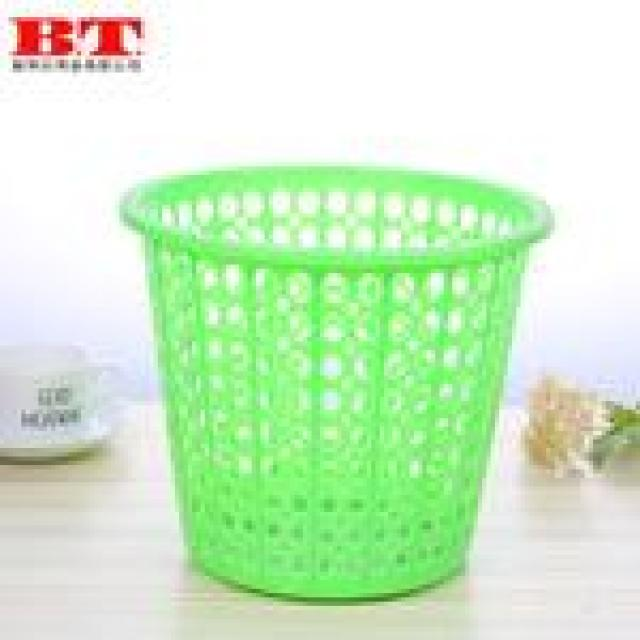dustbin: (108, 158, 558, 606)
